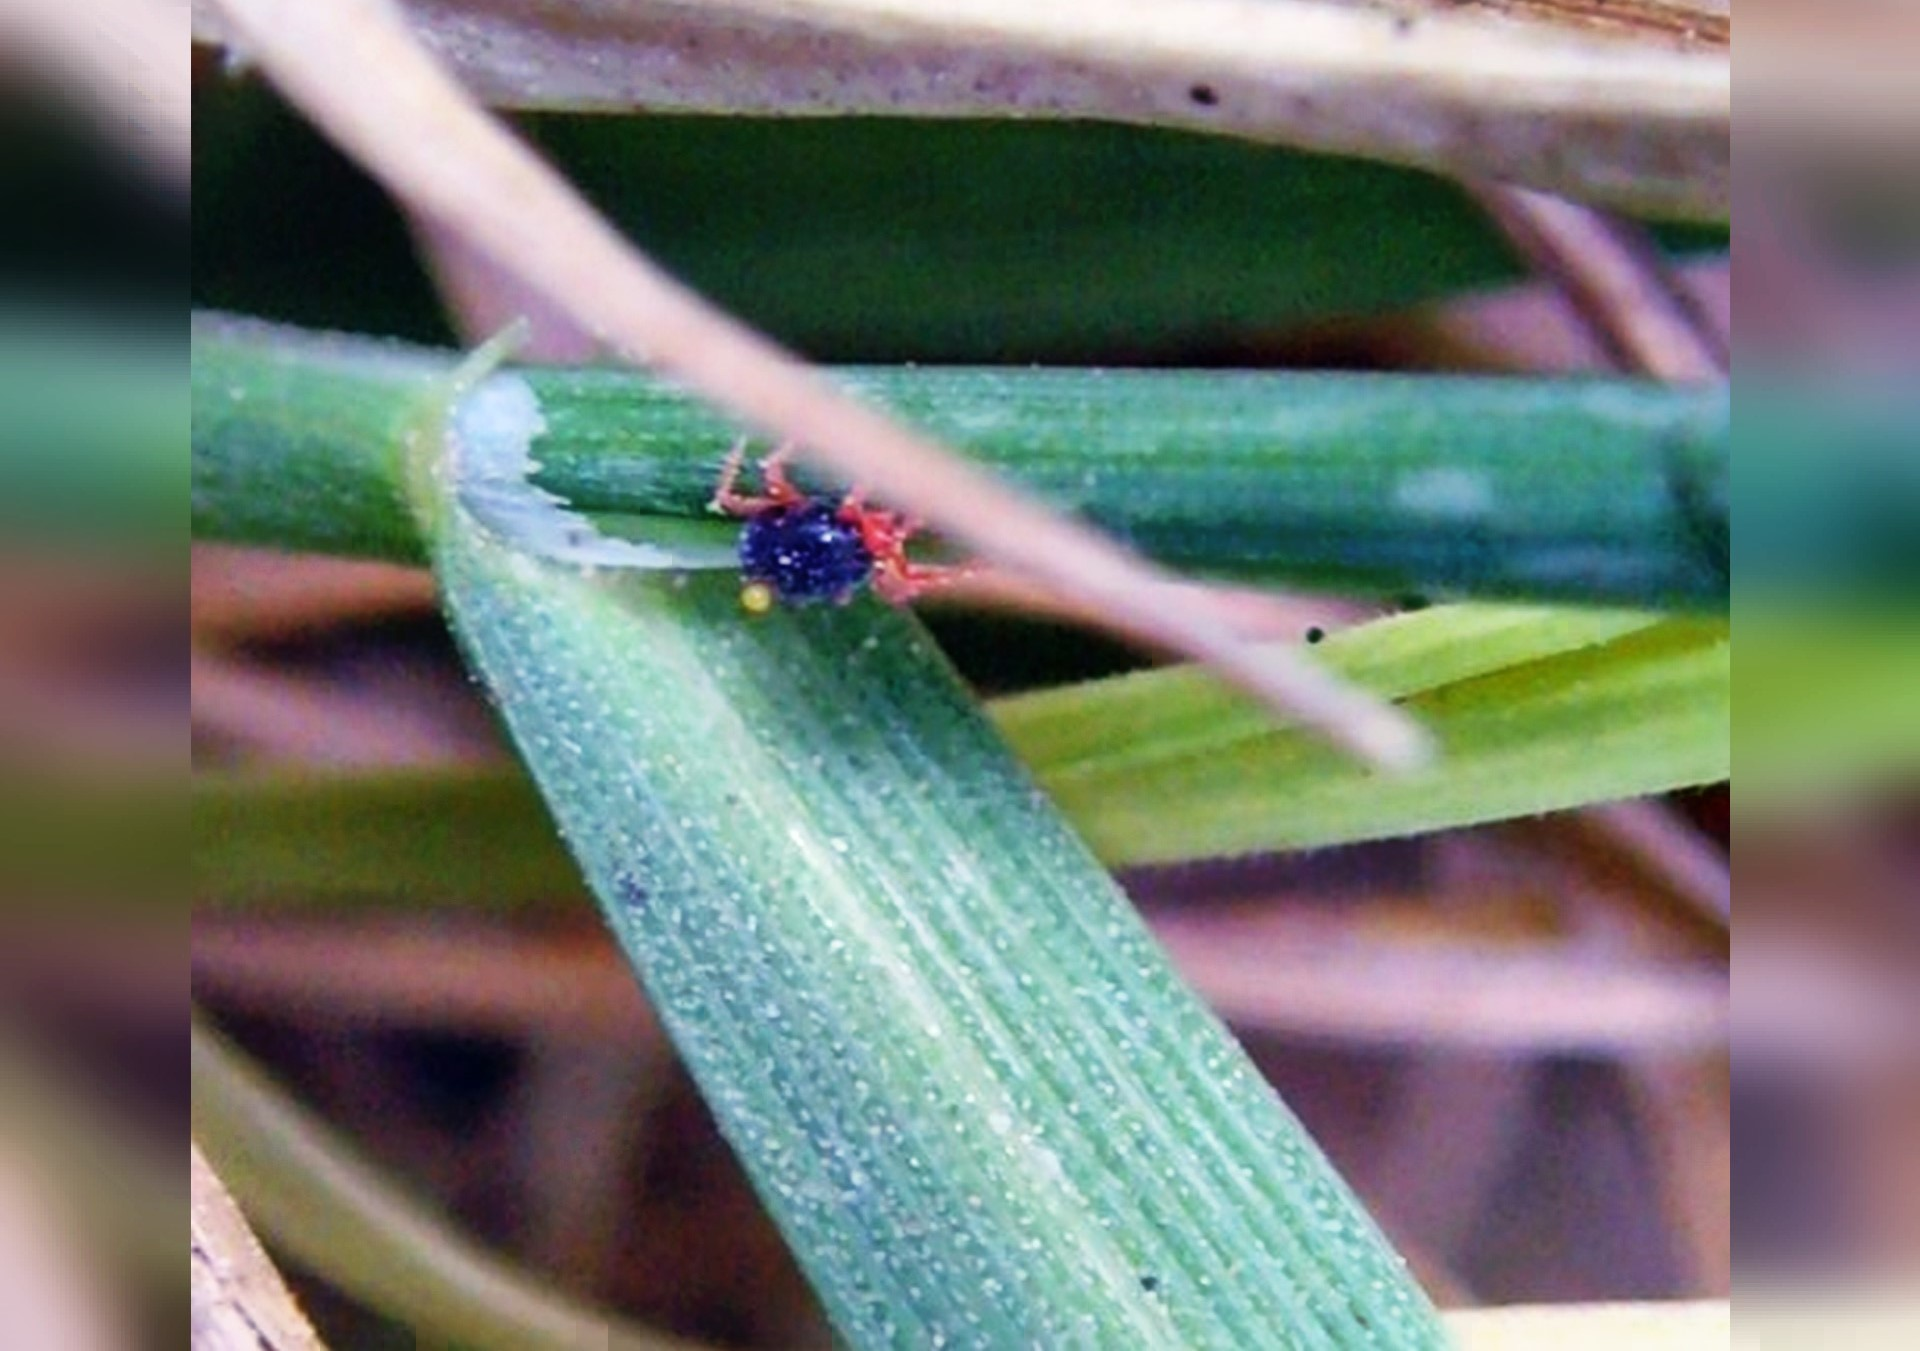Wheat Red Spider: (659, 425, 971, 633)
